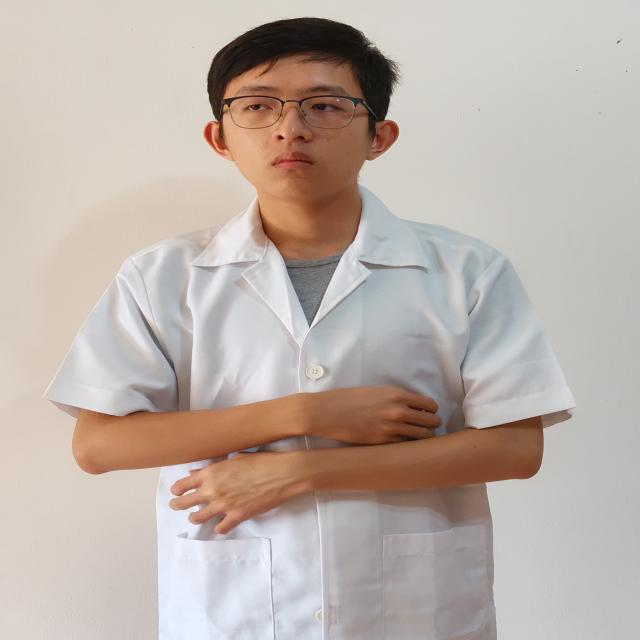person_with_labcoat: (46, 18, 575, 640)
